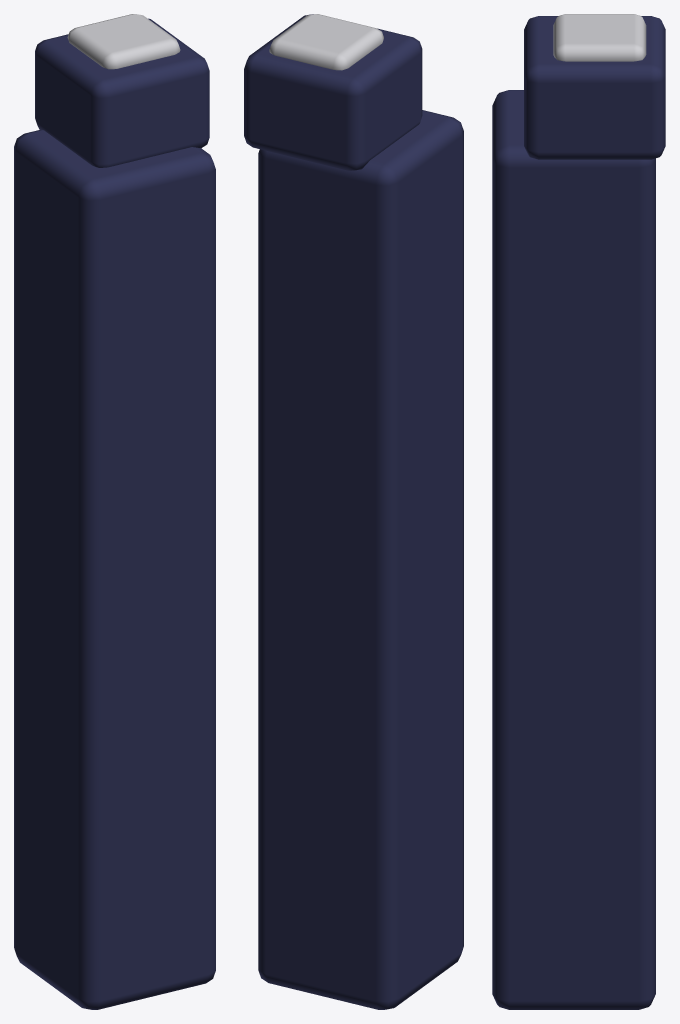
Rendered from hull.corner.k-2.5.t1.85.glb.
3 renders of one model, left to right at view 1: azimuth 30°, elevation 25°; view 2: azimuth 150°, elevation 25°; view 3: azimuth 270°, elevation 25°, orthographic. The views are drawn at different scales.
Parts seen in each view (by area): view 1: hull.corner.k-2.5.t1.85; view 2: hull.corner.k-2.5.t1.85; view 3: hull.corner.k-2.5.t1.85.
Part boxes in pixels (x1,y1,x2,y2): hull.corner.k-2.5.t1.85: [14, 14, 215, 1009]; hull.corner.k-2.5.t1.85: [244, 14, 463, 1009]; hull.corner.k-2.5.t1.85: [492, 14, 665, 1009].
Bounding box in the file's own units: 0.71 × 4.35 × 0.71.
